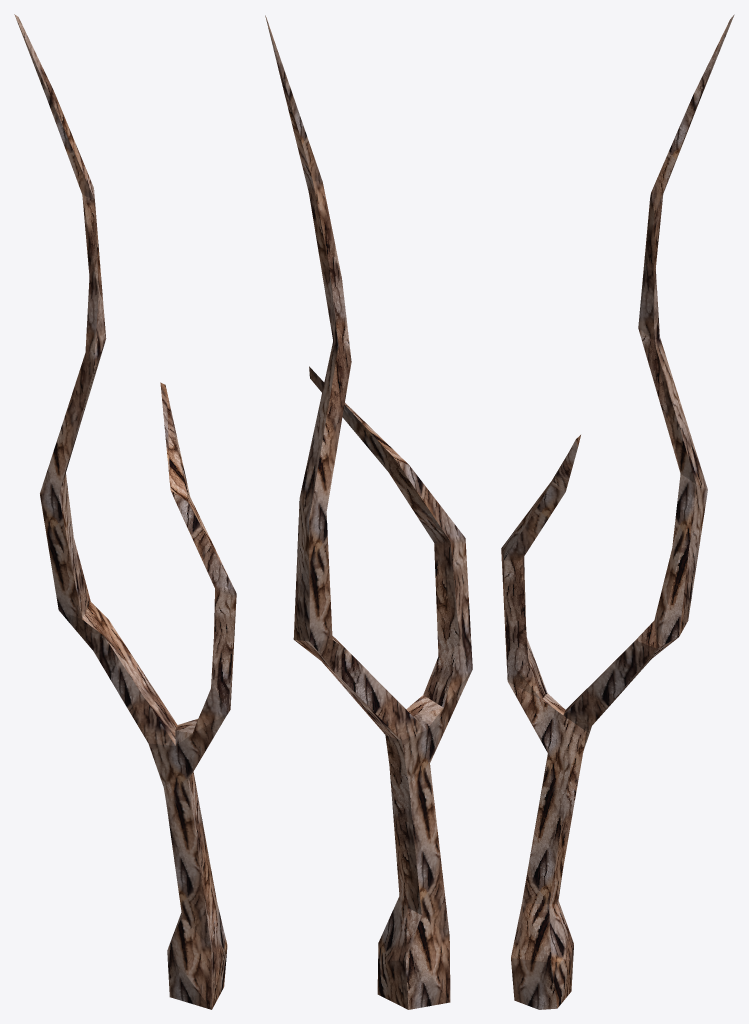
The model's file is Forest_1_Tree_4.gltf.
The picture shows the model from 3 angles, left to right: view 1: azimuth 90°, elevation 25°; view 2: azimuth 150°, elevation 25°; view 3: azimuth 270°, elevation 25°; orthographic projection. The views are drawn at different scales.
Visible parts, largest first — view 1: Forest_1_Tree_4; view 2: Forest_1_Tree_4; view 3: Forest_1_Tree_4.
Part boxes in pixels (bbox=[...]): Forest_1_Tree_4: bbox=[14, 14, 236, 1009]; Forest_1_Tree_4: bbox=[265, 15, 472, 1009]; Forest_1_Tree_4: bbox=[501, 14, 734, 1009].
Size of the model in its own units: 3.86 by 29.93 by 6.28.
1 material, 1 textured.
